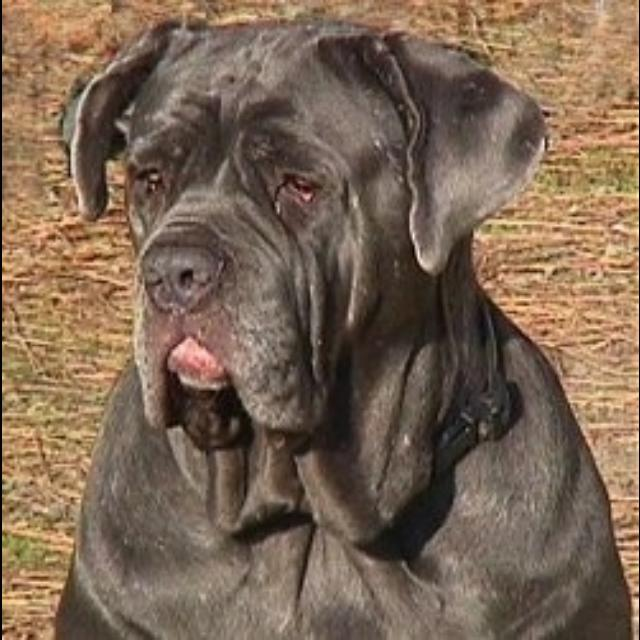mastino_napoletano: (46, 14, 637, 638)
